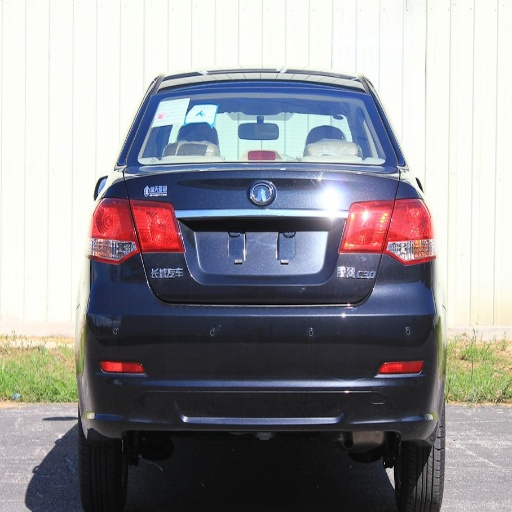back_bumper: (80, 253, 444, 441)
tailgate: (121, 141, 401, 301)
